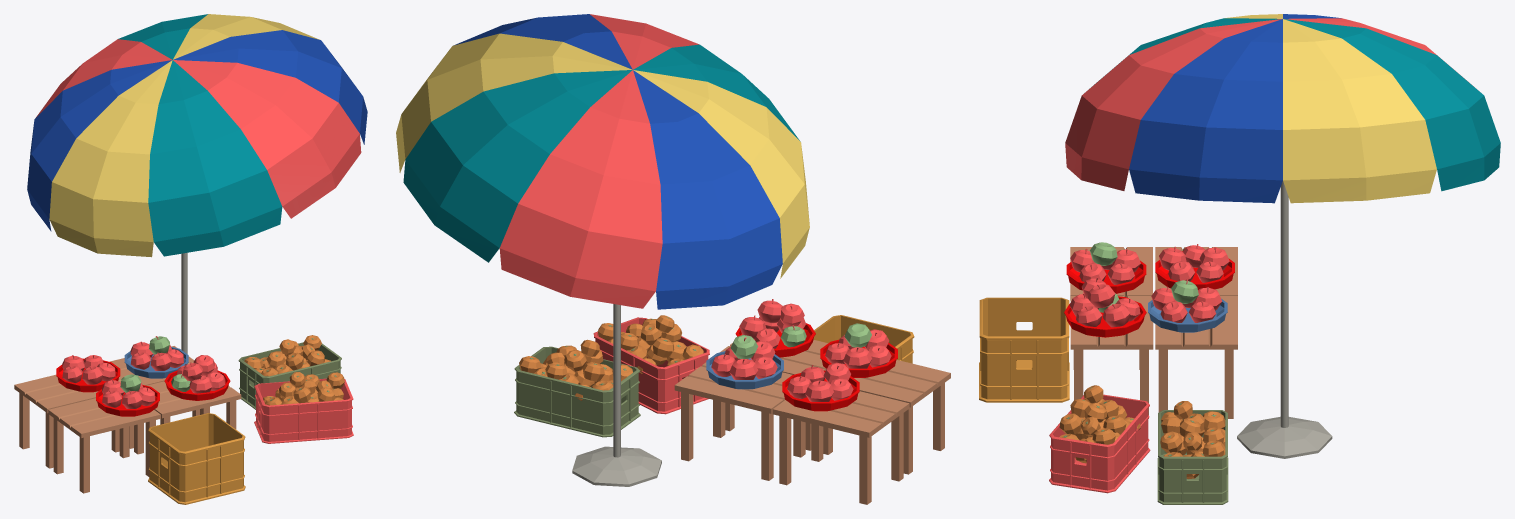
Rendered from parasolSet_02.fbx.
3 views of the same model, side by side, from view 1: azimuth 30°, elevation 25°; view 2: azimuth 150°, elevation 25°; view 3: azimuth 270°, elevation 25° (orthographic). The views are drawn at different scales.
Visible parts, largest first — view 1: parasol_pol, Box001, Box029, Box028, Box027, basketSet02, basketSet06, Box025, basketSet04, Oranges001, Box023, basketSet05 (+2 smaller); view 2: parasol_pol, Box027, Box023, Box026, Box028, Box029, basketSet04, Oranges001, basketSet05, basketSet06, basketSet02, Oranges (+2 smaller); view 3: parasol_pol, Box001, Box029, Box023, Box026, basketSet02, basketSet04, basketSet06, Oranges001, basketSet05, Box025, Oranges (+2 smaller).
Part boxes in pixels (left/top/right/bottom): parasol_pol: left=27, top=14, right=367, bottom=353; Box001: left=148, top=413, right=245, bottom=504; Box029: left=254, top=378, right=353, bottom=443; Box028: left=48, top=398, right=160, bottom=493; Box027: left=14, top=374, right=119, bottom=468; basketSet02: left=164, top=355, right=230, bottom=400; basketSet06: left=96, top=374, right=159, bottom=416; Box025: left=134, top=381, right=241, bottom=454; basketSet04: left=124, top=336, right=188, bottom=378; Oranges001: left=263, top=372, right=344, bottom=405; Box023: left=238, top=342, right=341, bottom=409; basketSet05: left=56, top=355, right=120, bottom=392; parasol_pol: left=396, top=14, right=809, bottom=486; Box027: left=772, top=391, right=909, bottom=504; Box023: left=514, top=346, right=640, bottom=437; Box026: left=674, top=362, right=805, bottom=480; Box028: left=823, top=359, right=950, bottom=474; Box029: left=593, top=317, right=709, bottom=414; basketSet04: left=706, top=335, right=783, bottom=389; Oranges001: left=597, top=315, right=704, bottom=373; basketSet05: left=782, top=362, right=859, bottom=411; basketSet06: left=820, top=323, right=897, bottom=377; basketSet02: left=735, top=299, right=815, bottom=357; Oranges: left=519, top=339, right=632, bottom=400; parasol_pol: left=1065, top=14, right=1500, bottom=458; Box001: left=979, top=297, right=1069, bottom=402; Box029: left=1049, top=394, right=1150, bottom=493; Box023: left=1157, top=410, right=1228, bottom=504; Box026: left=1155, top=296, right=1237, bottom=418; basketSet02: left=1064, top=278, right=1146, bottom=337; basketSet04: left=1148, top=279, right=1227, bottom=332; basketSet06: left=1066, top=242, right=1146, bottom=293; Oranges001: left=1059, top=385, right=1140, bottom=463; basketSet05: left=1155, top=244, right=1234, bottom=289; Box025: left=1070, top=296, right=1153, bottom=418; Oranges: left=1160, top=401, right=1225, bottom=478.
Size of the model in its own units: 373 by 388 by 348.
